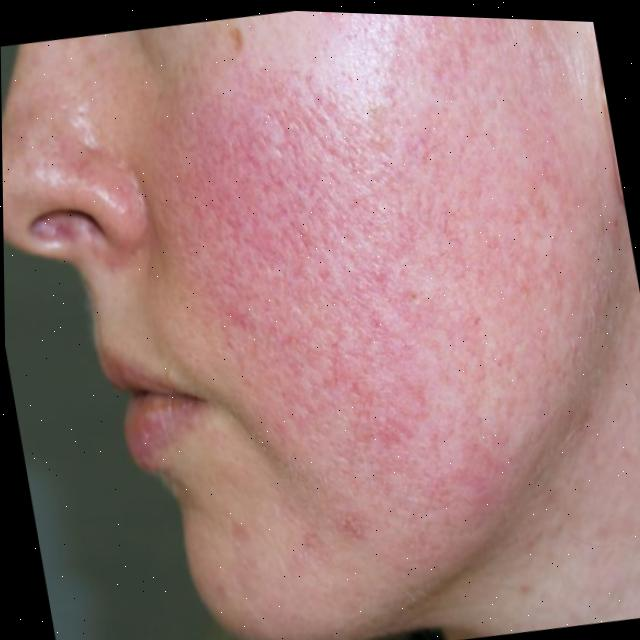Rosacea: (162, 8, 640, 524)
